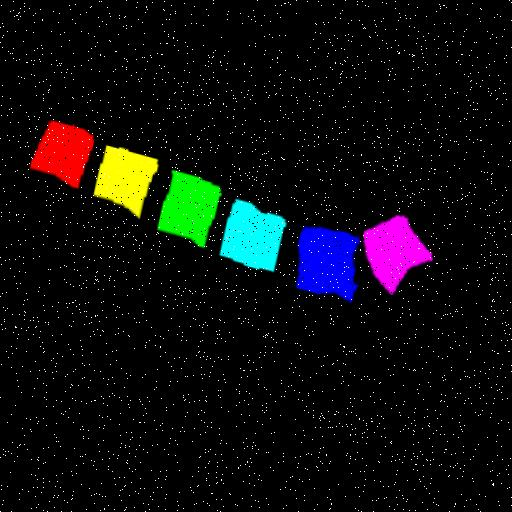L1: (32, 118, 94, 185)
L2: (95, 142, 159, 213)
L3: (159, 165, 223, 242)
L4: (222, 193, 287, 264)
L5: (301, 219, 361, 292)
S1: (366, 206, 434, 285)
